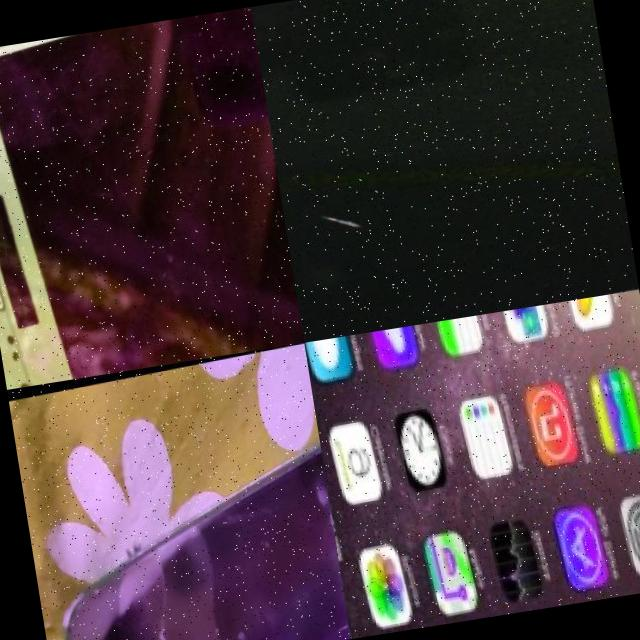scratch: (117, 550, 220, 640), (323, 198, 388, 238), (316, 587, 351, 640)
screen crack: (68, 11, 230, 60)
